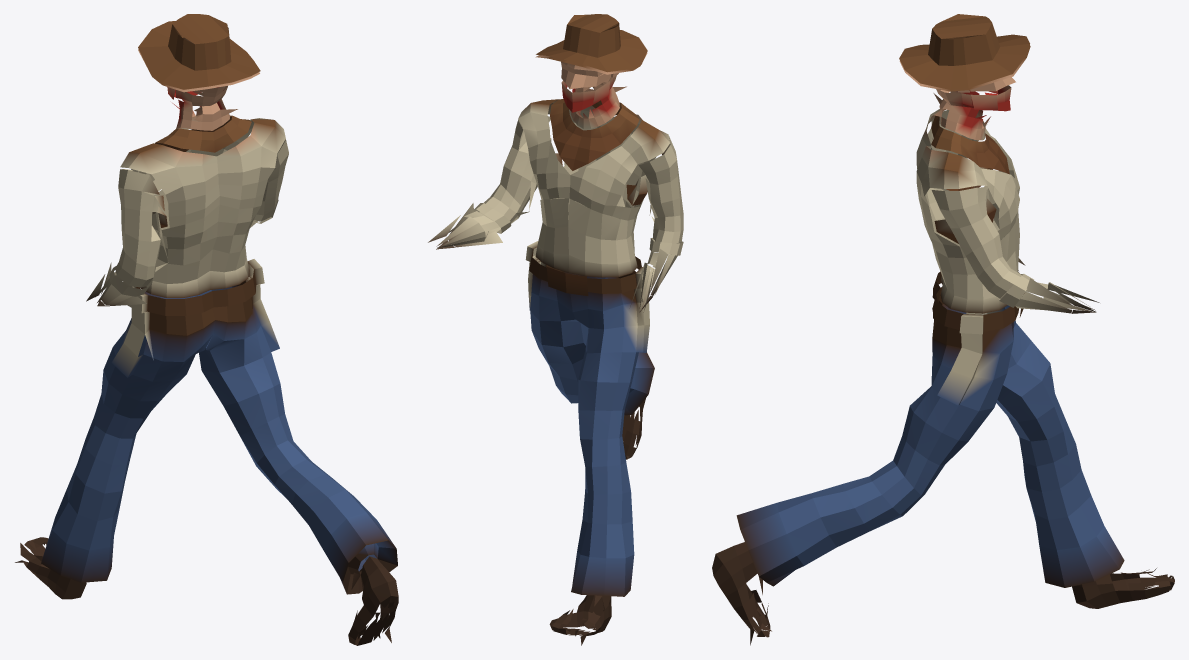
The model's file is man_0_w1.fbx.
The picture shows the model from 3 angles, left to right: view 1: azimuth 30°, elevation 25°; view 2: azimuth 150°, elevation 25°; view 3: azimuth 270°, elevation 25°; orthographic projection. The views are drawn at different scales.
Visible parts, largest first — view 1: cowboy; view 2: cowboy; view 3: cowboy.
Part boxes in pixels (x1=…): cowboy: x1=15, y1=14, x2=398, y2=645; cowboy: x1=428, y1=14, x2=683, y2=645; cowboy: x1=712, y1=14, x2=1174, y2=645.
Size of the model in its own units: 0.3603 by 0.9727 by 0.6585.
